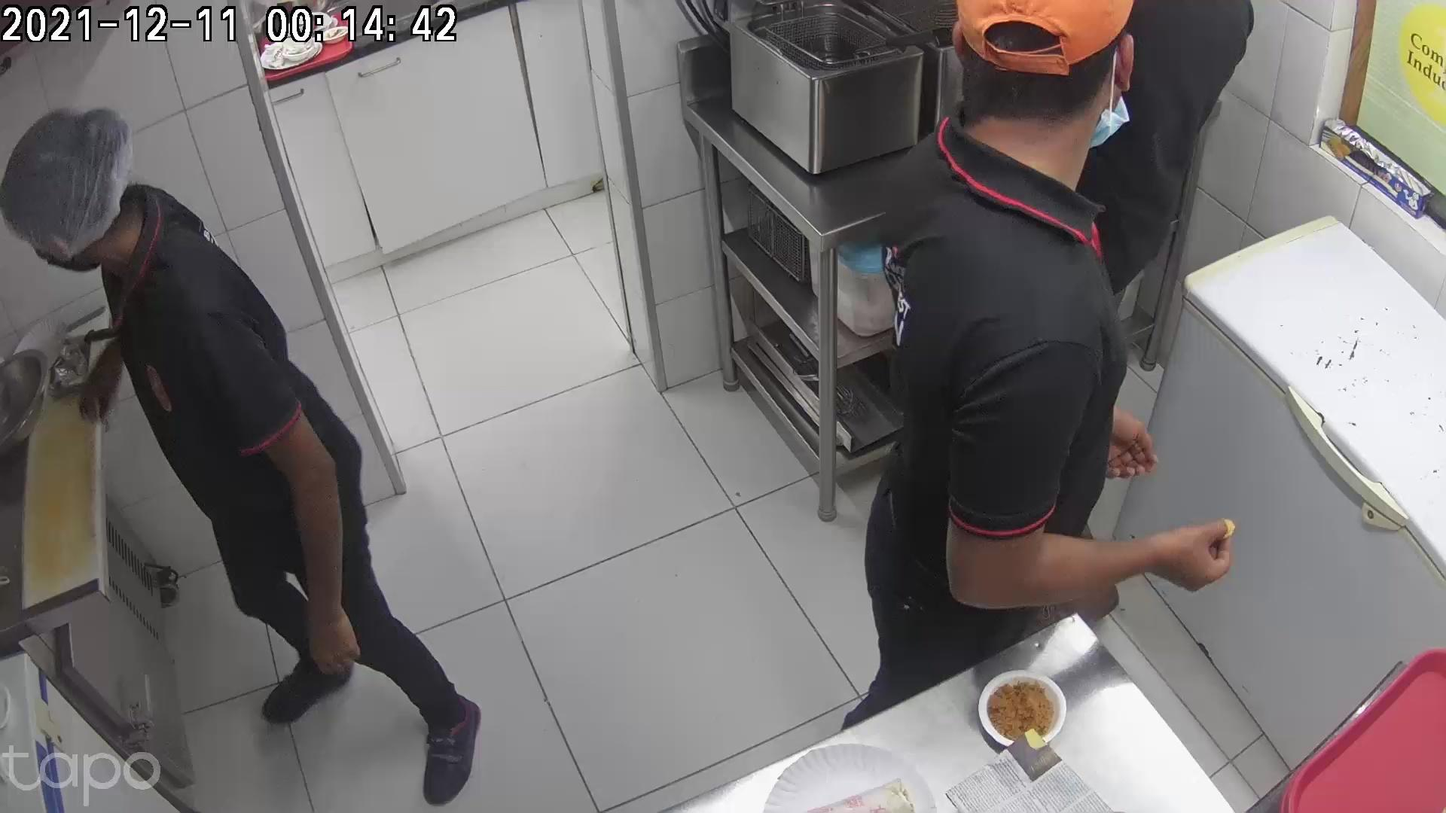gloves: (666, 600, 754, 753)
